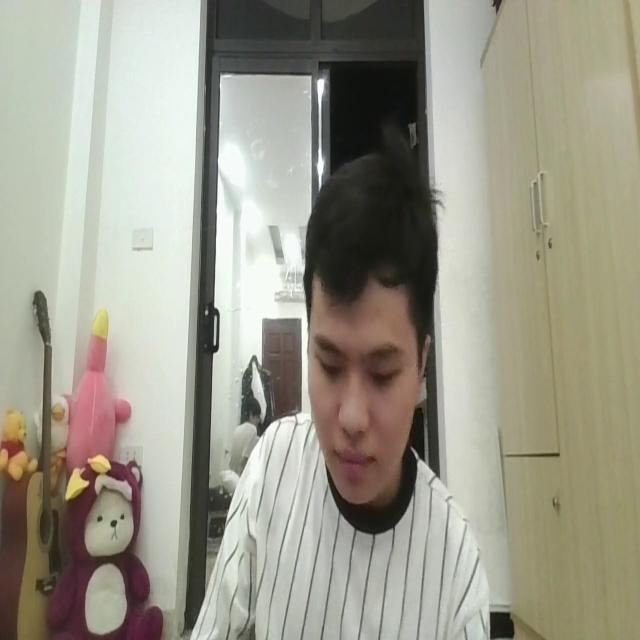student: (184, 138, 488, 640)
